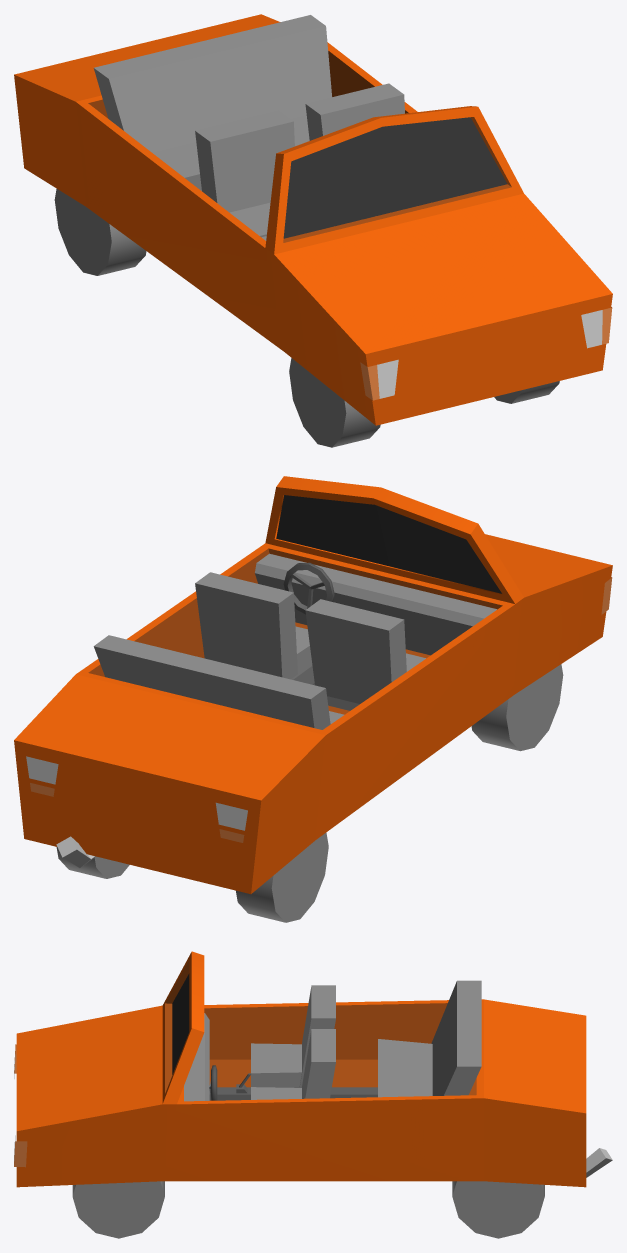
File: cabrio_01.fbx
The picture shows the model from 3 angles, top to bottom: view 1: azimuth 30°, elevation 25°; view 2: azimuth 150°, elevation 25°; view 3: azimuth 270°, elevation 25°; orthographic projection. The views are drawn at different scales.
Visible parts, largest first — view 1: cabrio_01; view 2: cabrio_01; view 3: cabrio_01.
Boxes of the visible parts, x1,y1,x2,y2 form: cabrio_01: (14,14,612,447); cabrio_01: (14,476,612,922); cabrio_01: (14,951,612,1238).
Size of the model in its own units: 1.6 by 1.63 by 4.1.
